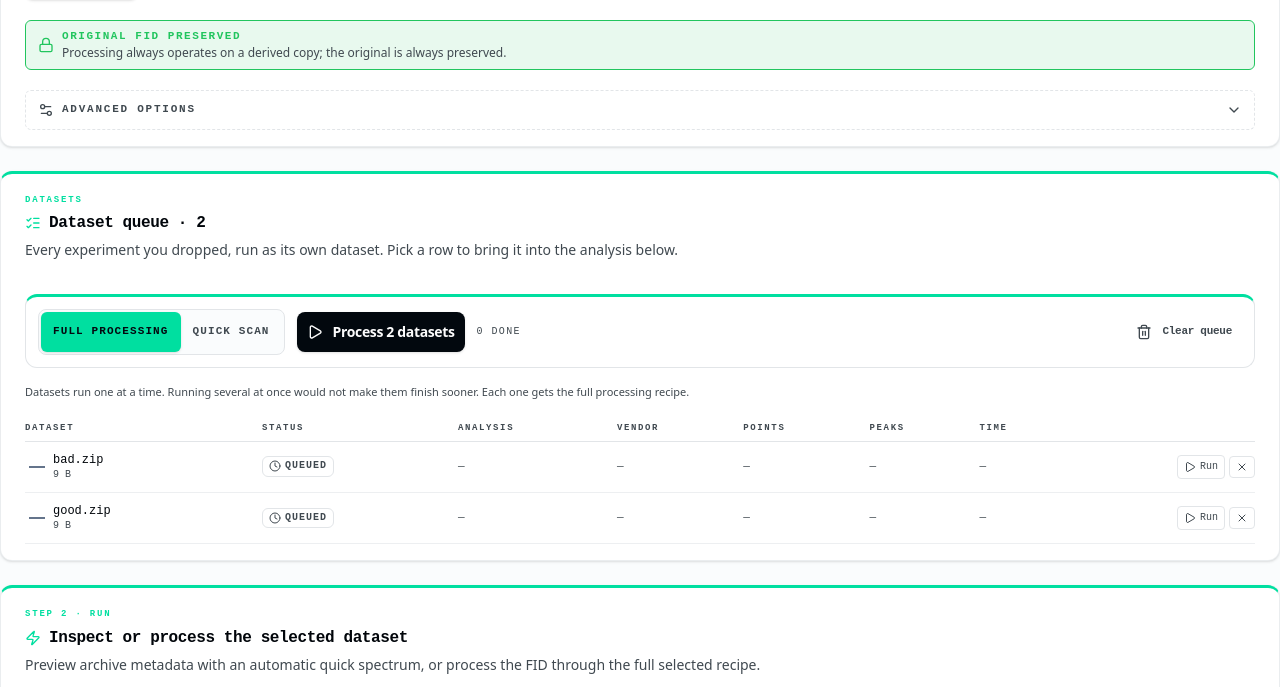
Test case: running the queue › keeps going past a dataset that fails on its own merits
The width and height of the screenshot is (1280, 687).
Earlier steps of the test are not shown.
(page scrolled)
Click the button with test id "raw-fid-queue-run-all": (381, 332) top-left (296, 312), bottom-right (465, 352)
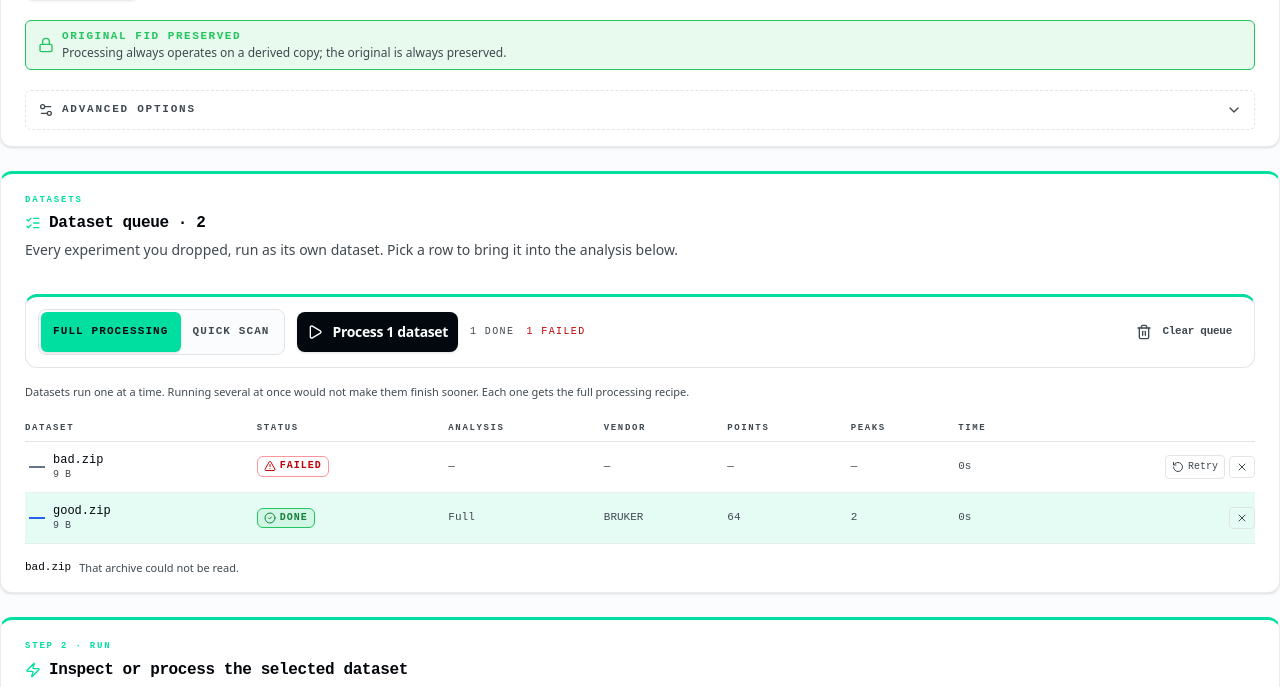
expect the text "Failed" is shown: met, box top-left (257, 456), bottom-right (329, 477)
expect the text "Done" is shown: met, box top-left (257, 508), bottom-right (315, 528)
